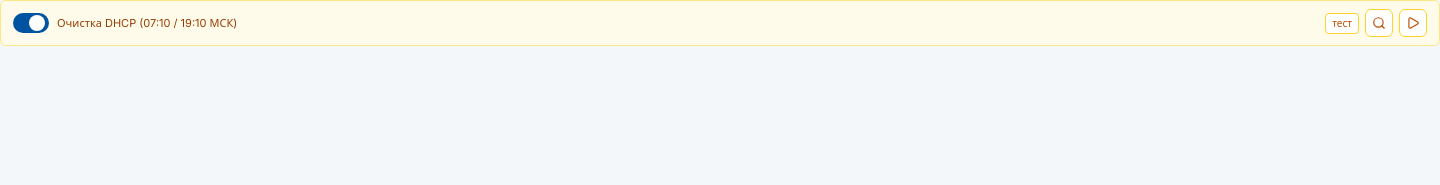
SwitchDhcpPanel › shows the DHCP role and the exact commands a cleanup would send
The width and height of the screenshot is (1440, 185).
Click the button named "Диагностика DHCP": (1379, 23) 1365,9 -> 1393,37
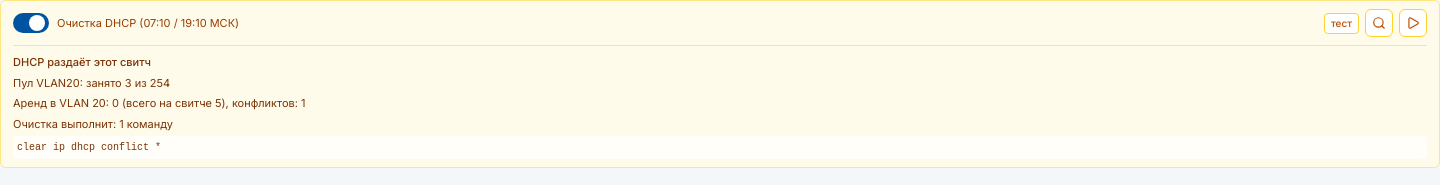
Now the text "DHCP раздаёт этот свитч" is shown, box 13,55 -> 151,69
Now the text "clear ip dhcp conflict *" is shown, box 13,136 -> 1427,159
Now the text "Пул VLAN20: занято 3 из 254" is shown, box 13,76 -> 170,90
